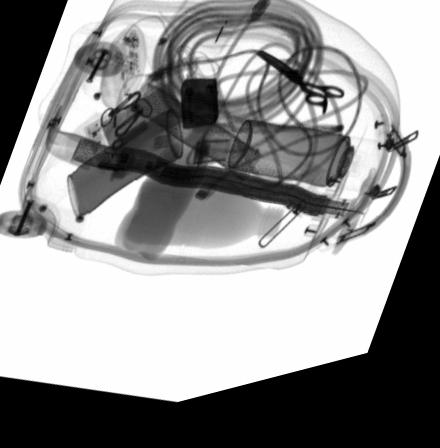Lighter: (180, 87, 217, 139)
Powerbank: (83, 71, 192, 182)
Scissors: (254, 62, 343, 133)
Sprayer: (226, 131, 381, 213)
